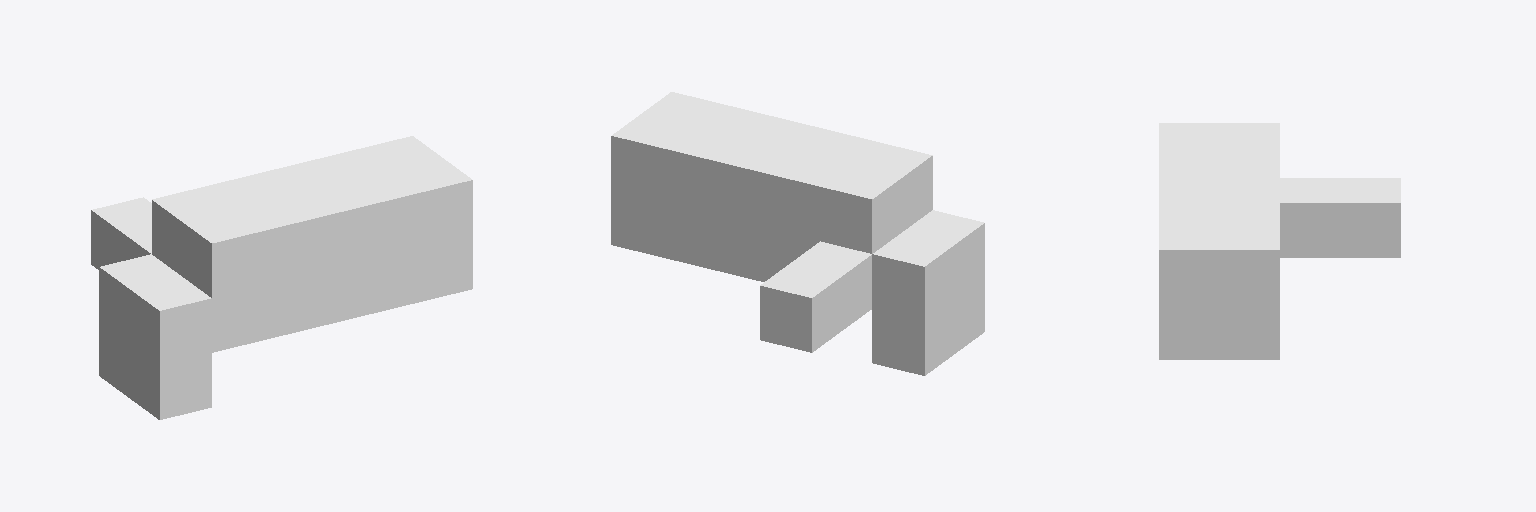
The model's file is BRAS-L.obj.
3 renders of one model, left to right at view 1: azimuth 30°, elevation 25°; view 2: azimuth 150°, elevation 25°; view 3: azimuth 270°, elevation 25°, orthographic.
Visible parts, largest first — view 1: object 1; view 2: object 1; view 3: object 1.
Boxes of the visible parts, x1=… form: object 1: x1=91, y1=136, x2=472, y2=419; object 1: x1=611, y1=92, x2=984, y2=375; object 1: x1=1159, y1=123, x2=1400, y2=359.
Bounding box in the file's own units: 0.6 × 0.3 × 0.4.